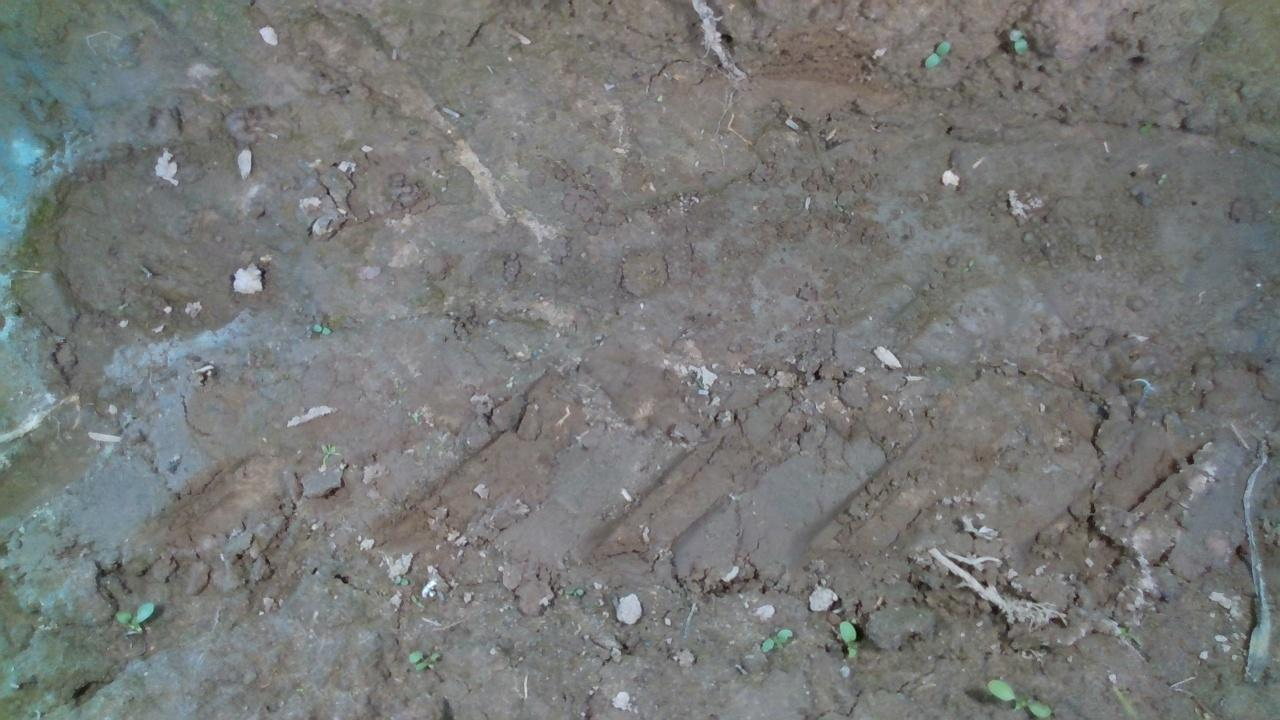weed: (984, 677, 1051, 718), (110, 598, 157, 636), (835, 619, 858, 660), (758, 626, 792, 653), (923, 37, 951, 69), (1006, 28, 1028, 57), (311, 321, 332, 334)
